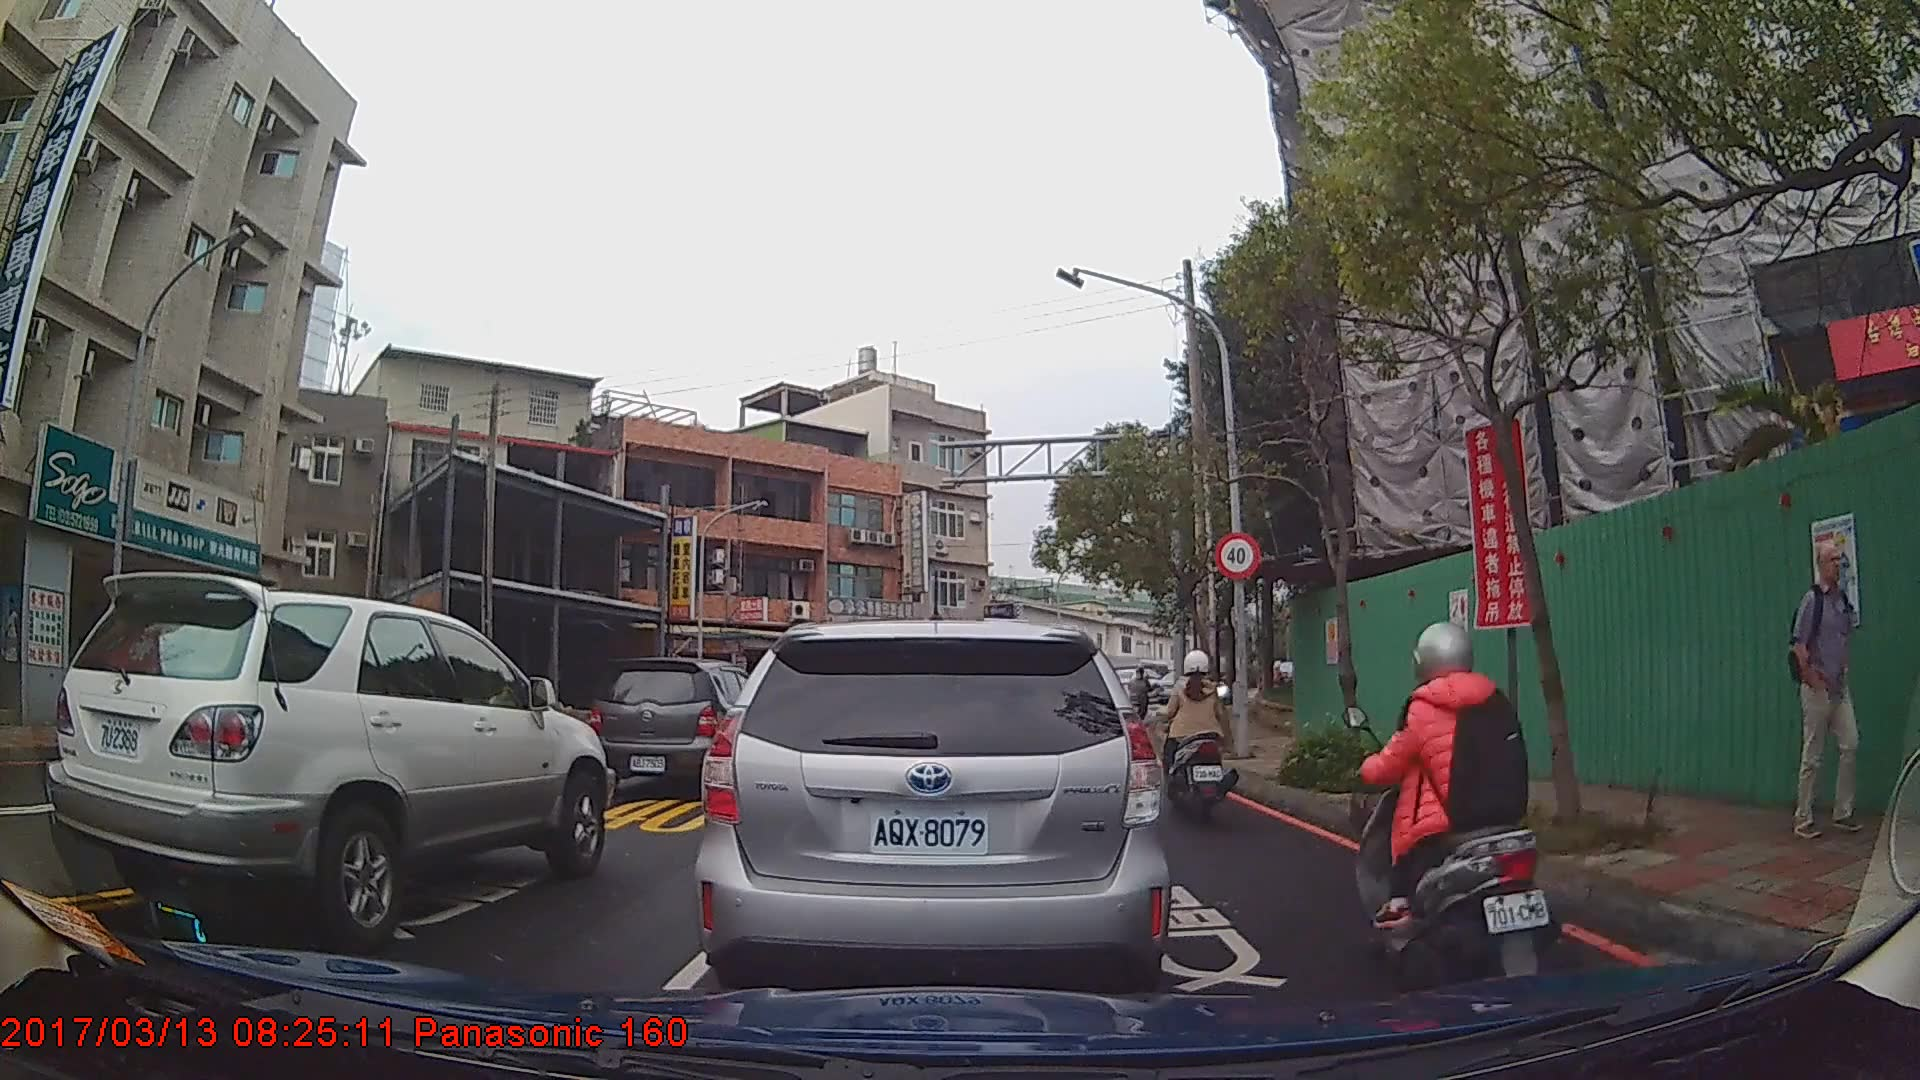pedestrian: (1783, 543, 1872, 839)
rider: (1353, 622, 1565, 1010), (1164, 648, 1236, 818), (1127, 662, 1153, 727)
vehicle: (47, 570, 612, 947), (692, 615, 1171, 1009), (588, 655, 782, 793)
